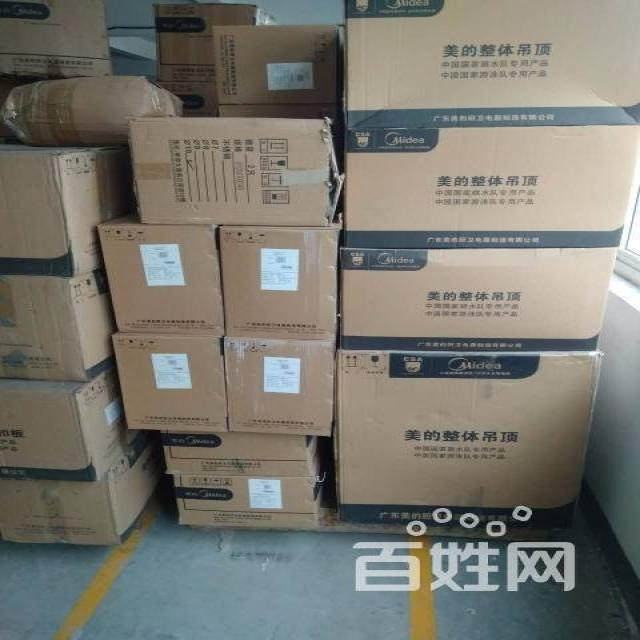box: (336, 351, 601, 527), (343, 0, 639, 129), (342, 124, 638, 247), (336, 249, 616, 353), (132, 119, 342, 225), (1, 145, 141, 279), (0, 434, 165, 545), (0, 368, 156, 482), (99, 211, 223, 336), (152, 4, 287, 118), (218, 225, 341, 343), (0, 272, 118, 382), (110, 333, 230, 432), (220, 335, 335, 438), (2, 0, 117, 91), (213, 25, 340, 105), (174, 463, 337, 525), (217, 105, 344, 180), (158, 430, 337, 475)
